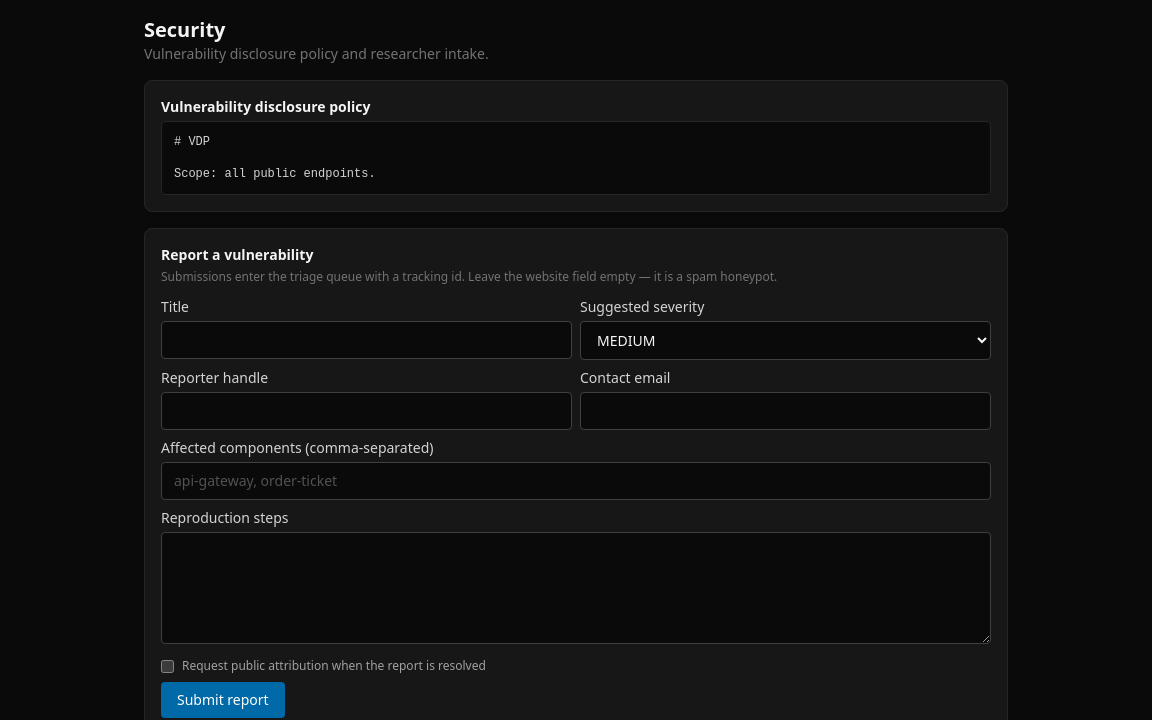
Scenario: SecurityPage (no auth) › loads the markdown policy and posts a disclosure
Expected: the text "# VDP Scope: all public endpoints." is shown, [161,121,991,195]
Type "IDOR on statements" into the field labelled "Title" at (366, 340), box [161,321,572,359]
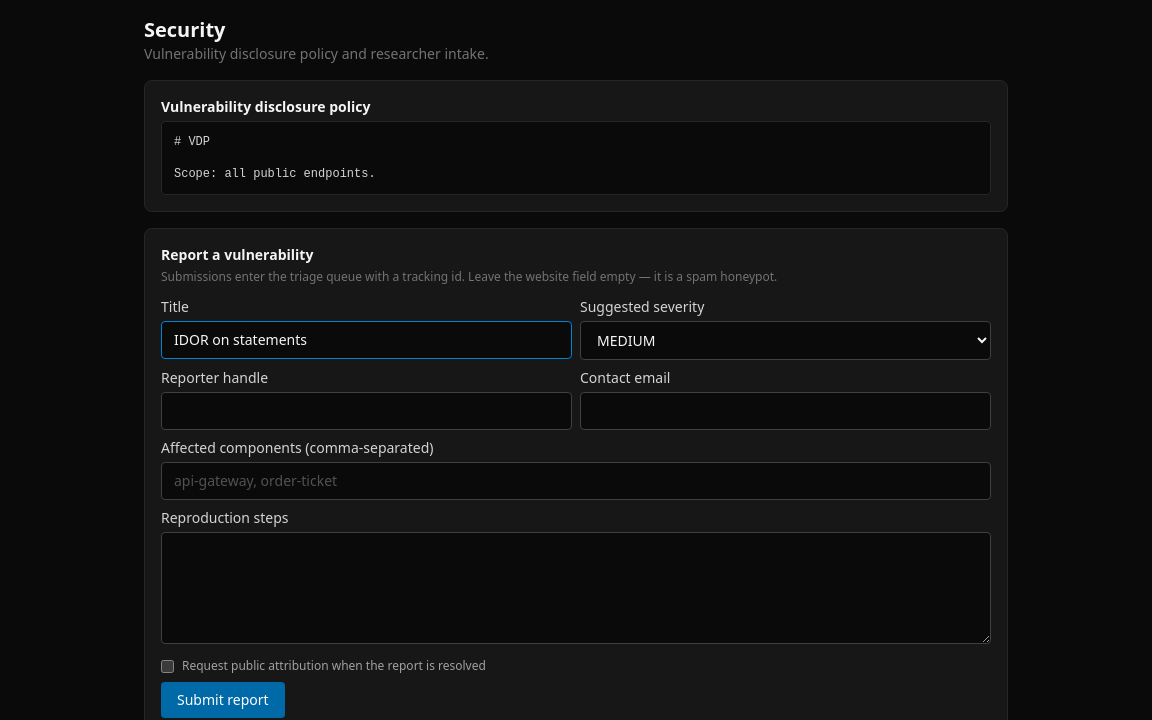
Type "sec-res-1" into the field labelled "Reporter handle" at (366, 411), box [161,392,572,430]
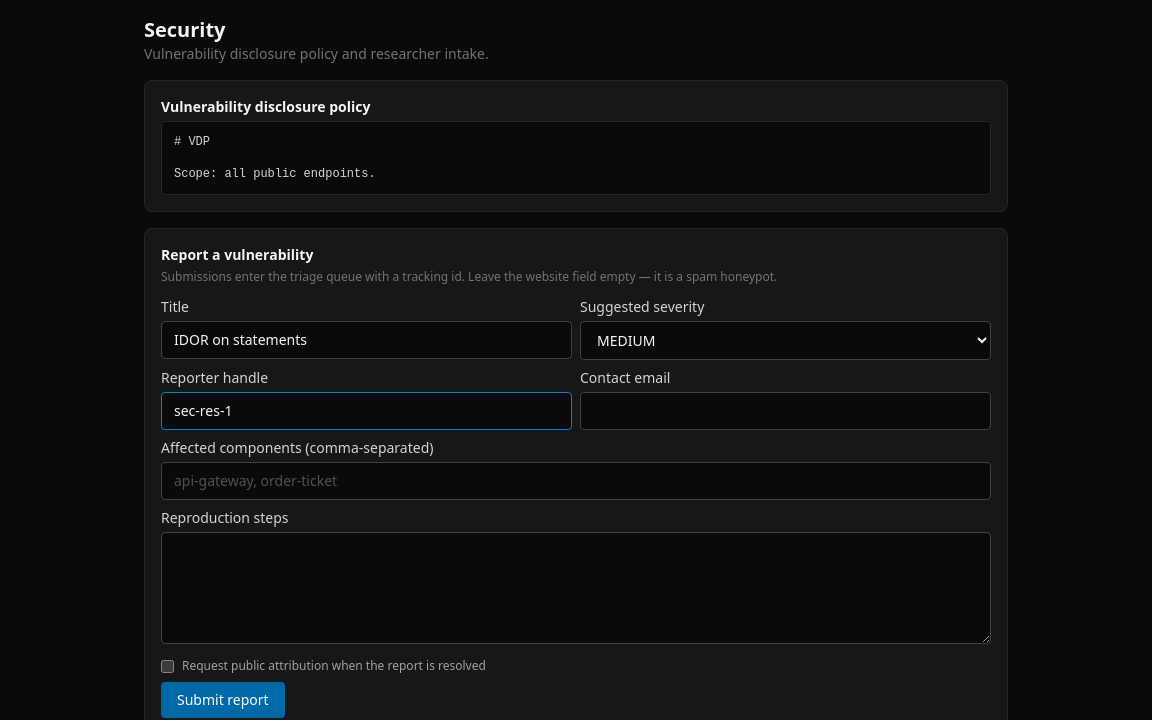
Type "1) GET /x" into the text box labelled "Reproduction steps" at (576, 588), box [161,532,991,644]
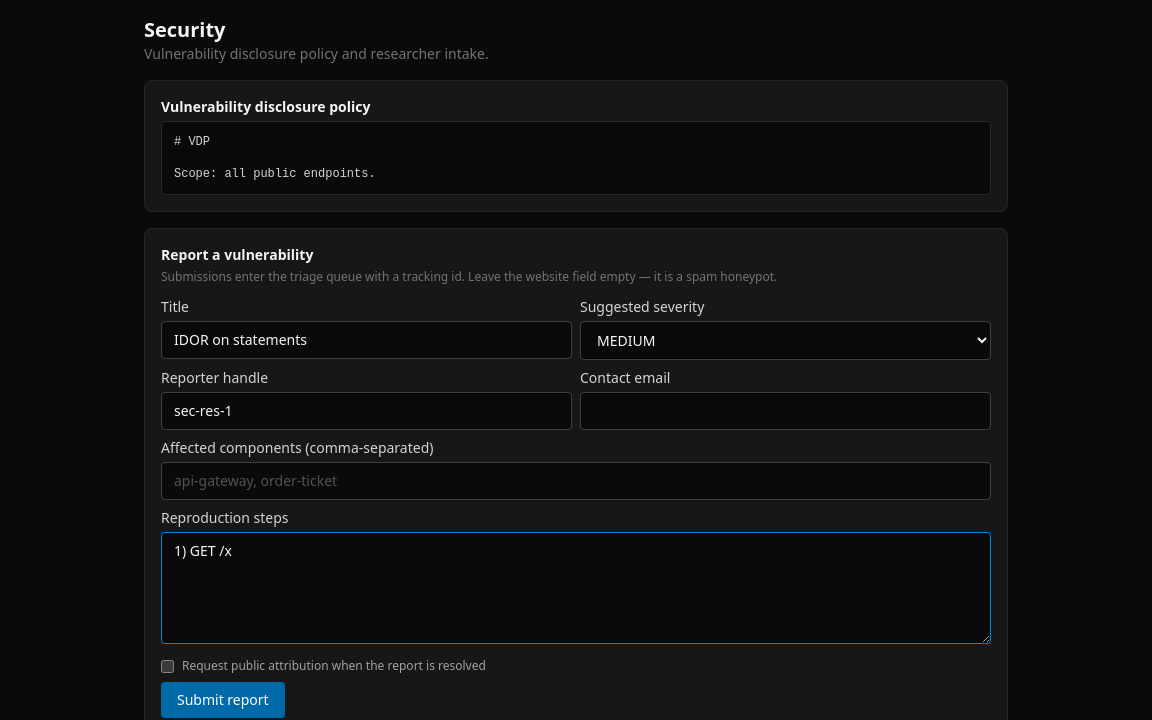
Click the button "Submit report" at (223, 700), box [161,682,285,718]
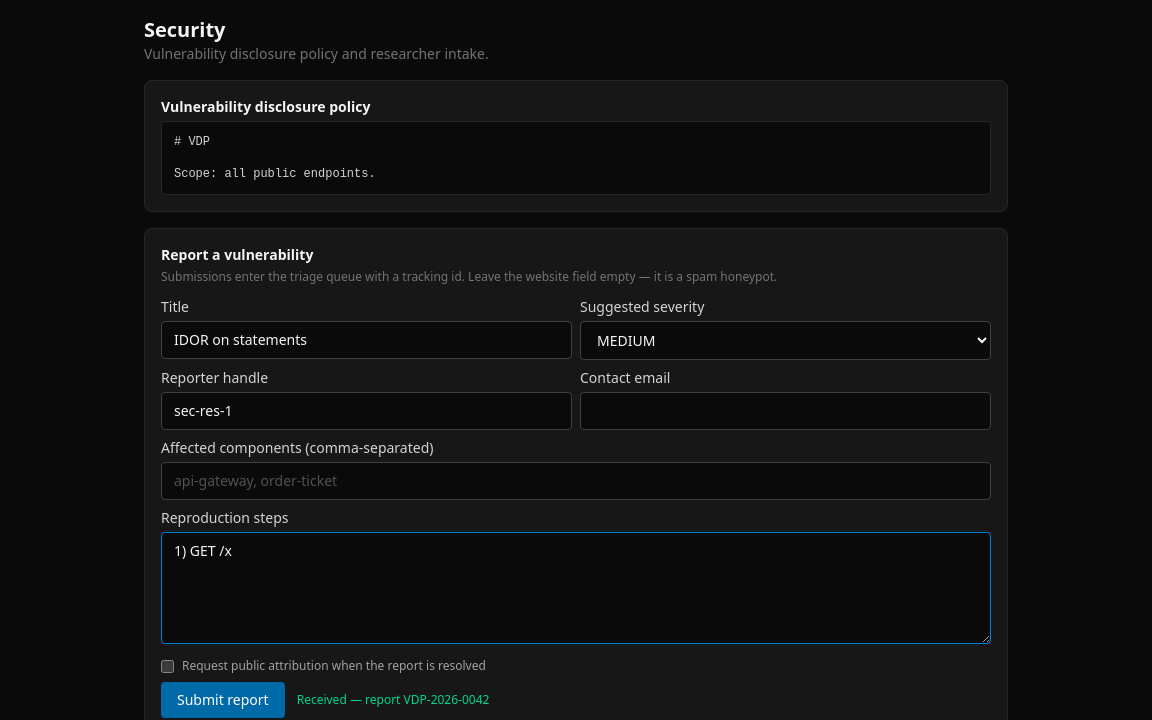
Now the text "Received — report VDP-2026-0042" is shown, box [297,692,490,708]
